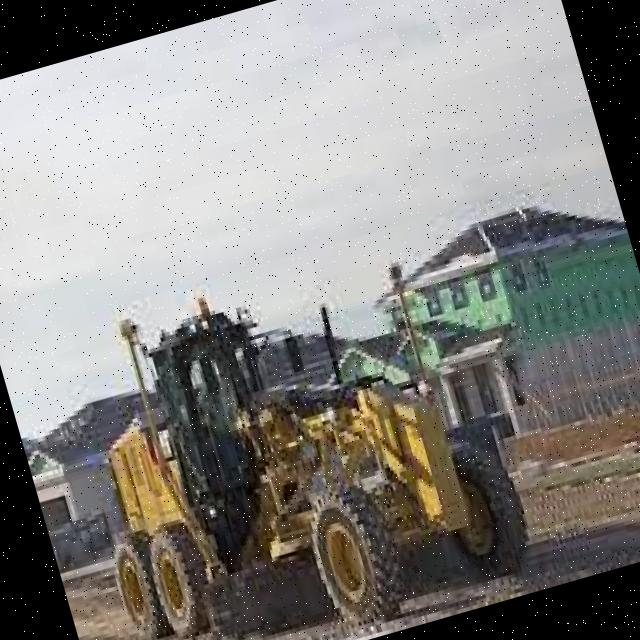Grader: (46, 219, 563, 640)
